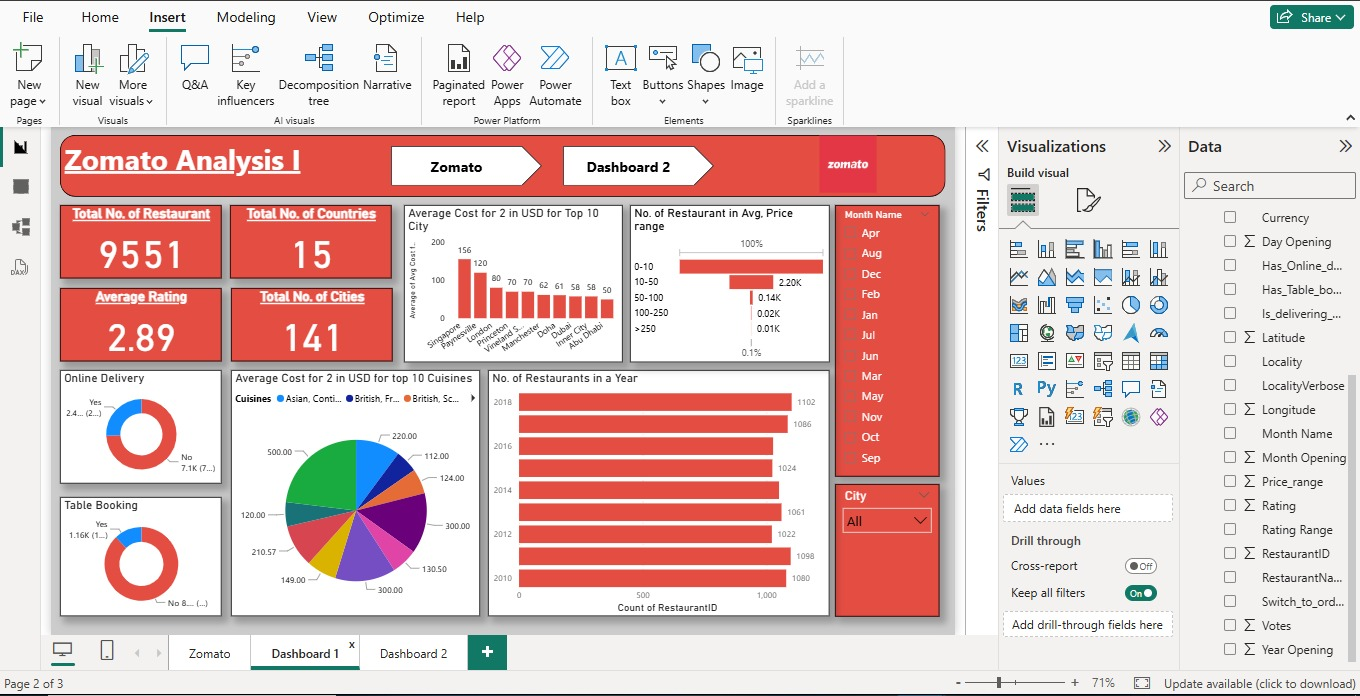

Layout of this report page (visuals, bound fields, positions):
{"tool":"powerbi","page":{"name":"Dashboard 1","canvas":[1280,720],"ordinal":1},"visuals":[{"type":"shape","box":[12.5,11.2,1255,87.5],"z":0},{"type":"shape","box":[726.2,26.2,213.8,56.2],"z":1000},{"type":"shape","box":[482.5,27.5,213.8,56.2],"z":2000},{"type":"image","box":[992.5,7.5,275,91.2],"z":3000},{"type":"card","title":"Total No. of Restaurant","fields":{"Values":["CountNonNull(Main.RestaurantID)"]},"box":[12.5,110,228.8,103.8],"z":3001},{"type":"card","title":"Average Rating","fields":{"Values":["Avg(Main.Rating)"]},"box":[12.5,227.5,228.8,103.8],"z":3002},{"type":"donutChart","title":"Online Delivery","fields":{"Y":["CountNonNull(Main.RestaurantID)"],"Category":["Main.Has_Online_delivery"]},"box":[12.5,345,228.8,161.2],"z":3003},{"type":"donutChart","title":"Table Booking","fields":{"Y":["CountNonNull(Main.RestaurantID)"],"Category":["Main.Has_Table_booking"]},"box":[12.5,525,228.8,168.8],"z":3004},{"type":"card","title":"Total No. of Countries","fields":{"Values":["Count(Main.CountryCode)"]},"box":[253.8,110,228.8,103.8],"z":3005},{"type":"card","title":"Total No. of Cities","fields":{"Values":["Count(Main.City)"]},"box":[255,228.8,228.8,103.8],"z":3006},{"type":"slicer","fields":{"Values":["Main.Month Name"]},"box":[1111.2,110,147.5,385],"z":3007},{"type":"slicer","fields":{"Values":["Main.City"]},"box":[1111.2,506.2,147.5,187.5],"z":3008},{"type":"columnChart","title":"Average Cost for 2 in USD for Top 10 City","fields":{"Category":["Main.City"],"Y":["Avg(Main.Avg Cost for 2 in USD)"]},"box":[500,110,310,222.5],"z":3009},{"type":"pieChart","title":"Average Cost for 2 in USD for top 10 Cuisines","fields":{"Y":["Avg(Main.Avg Cost for 2 in USD)"],"Series":["Main.Cuisines"]},"box":[255,345,352.5,348.8],"z":3010},{"type":"barChart","title":"No. of Restaurants in a Year","fields":{"Category":["Main.Year Opening"],"Y":["CountNonNull(Main.RestaurantID)"]},"box":[618.8,345,483.8,348.8],"z":3011},{"type":"funnel","title":"No. of Restaurant in Avg, Price range","fields":{"Category":["Main.Avg. Price Bucket"],"Y":["CountNonNull(Main.RestaurantID)"]},"box":[820,110,282.5,222.5],"z":3012}]}

Visuals, with their boxes on the page's 1280x720 design canvas (x1, y1, x2, y2). These are canvas units, not pixel positions in the 1360x696 screenshot, which may show the page scaled, cropped or inside an application window:
shape: bbox=[12, 11, 1268, 99]
shape: bbox=[726, 26, 940, 82]
shape: bbox=[482, 28, 696, 84]
image: bbox=[992, 8, 1268, 99]
"Total No. of Restaurant" card: bbox=[12, 110, 241, 214]
"Average Rating" card: bbox=[12, 228, 241, 331]
"Online Delivery" donutChart: bbox=[12, 345, 241, 506]
"Table Booking" donutChart: bbox=[12, 525, 241, 694]
"Total No. of Countries" card: bbox=[254, 110, 483, 214]
"Total No. of Cities" card: bbox=[255, 229, 484, 333]
slicer - Main.Month Name: bbox=[1111, 110, 1259, 495]
slicer - Main.City: bbox=[1111, 506, 1259, 694]
"Average Cost for 2 in USD for Top 10 City" columnChart: bbox=[500, 110, 810, 332]
"Average Cost for 2 in USD for top 10 Cuisines" pieChart: bbox=[255, 345, 608, 694]
"No. of Restaurants in a Year" barChart: bbox=[619, 345, 1103, 694]
"No. of Restaurant in Avg, Price range" funnel: bbox=[820, 110, 1102, 332]
